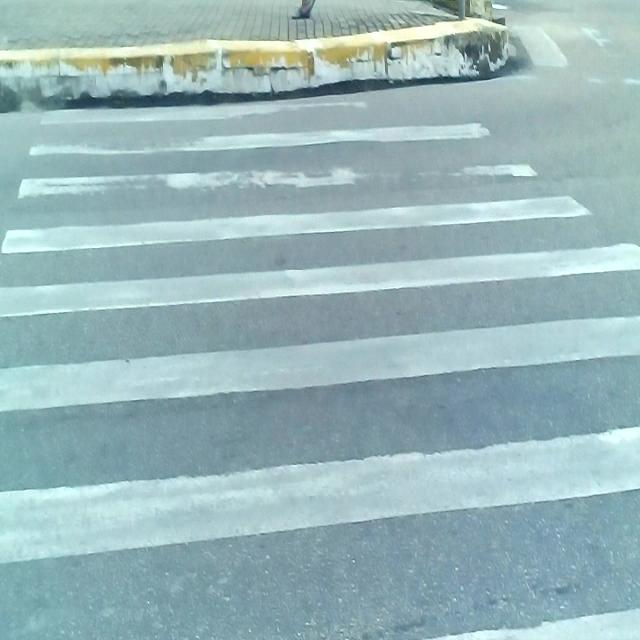crosswalk: (0, 83, 640, 640), (509, 0, 640, 70)
